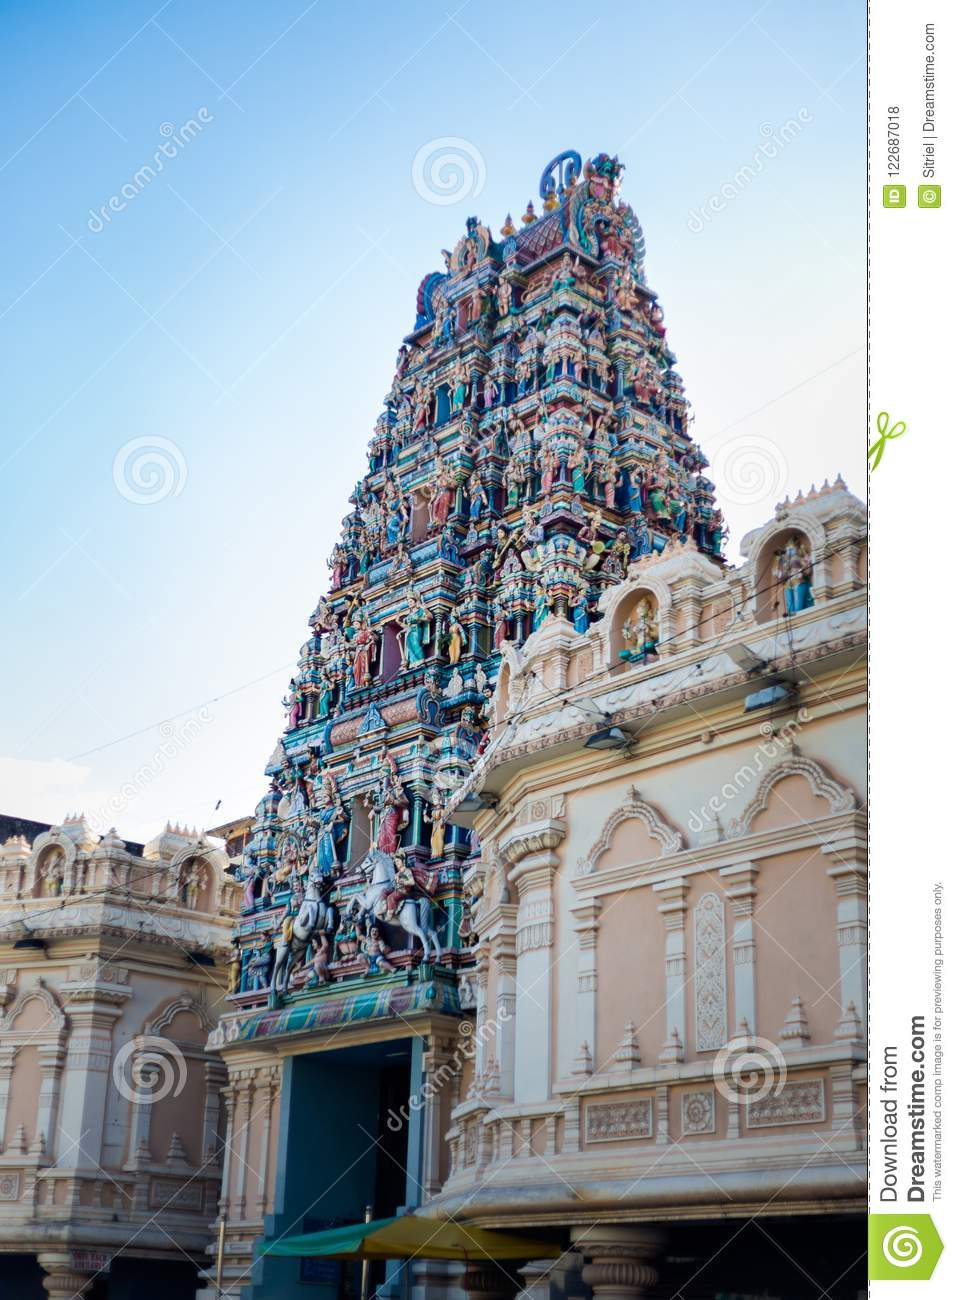Hindu Temple: (247, 146, 728, 1161)
